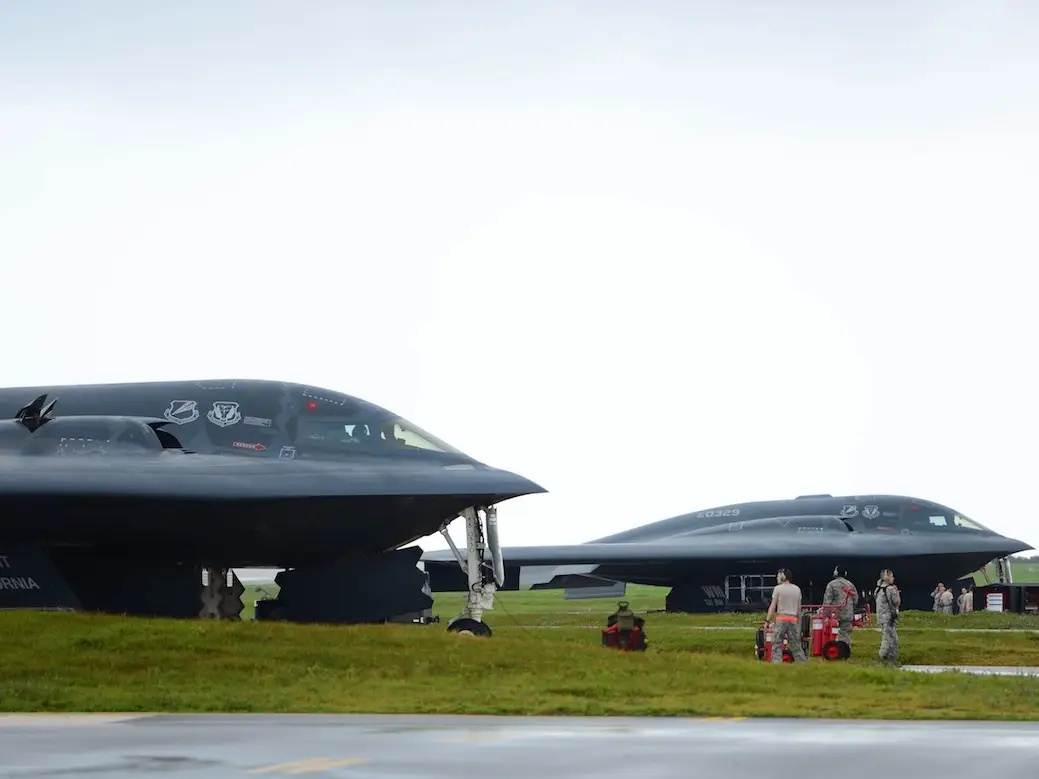B2: (1, 379, 551, 638), (416, 493, 1035, 614)
